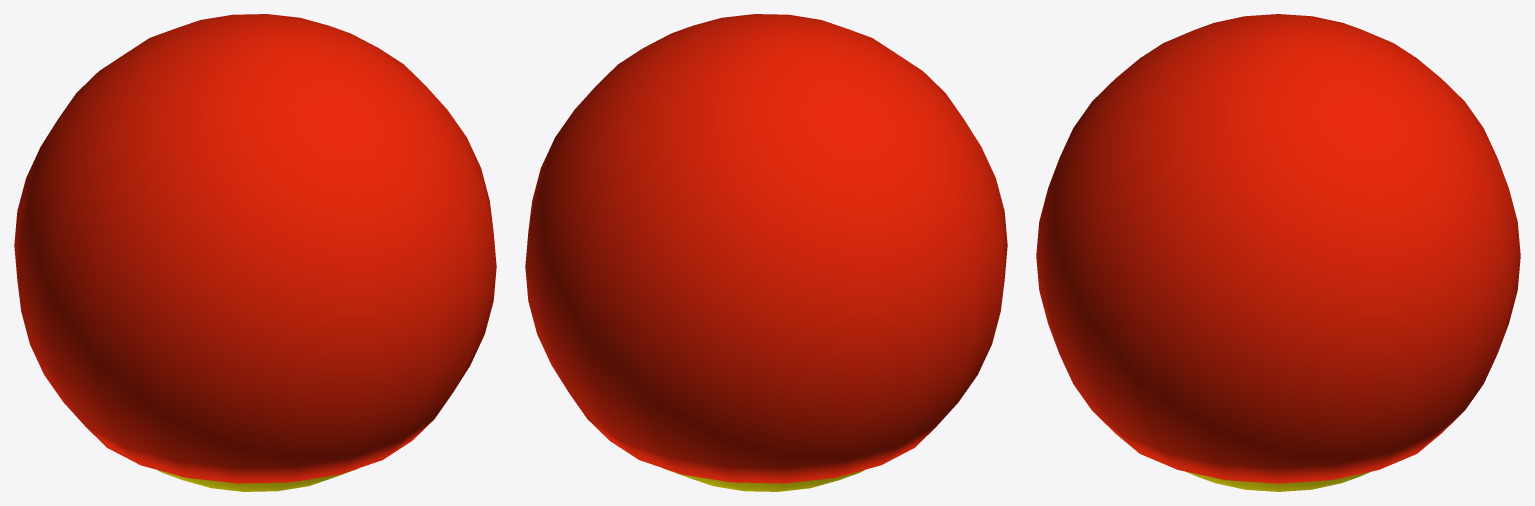
The model's file is innseki.fbx.
3 views of the same model, side by side, from view 1: azimuth 30°, elevation 25°; view 2: azimuth 150°, elevation 25°; view 3: azimuth 270°, elevation 25° (orthographic).
Visible parts, largest first — view 1: pSphere6, pSphere7; view 2: pSphere6, pSphere7; view 3: pSphere6, pSphere7.
Boxes of the visible parts, box(x1,y1,x2,y2) form: pSphere6: box(14, 14, 496, 483); pSphere7: box(157, 468, 358, 491); pSphere6: box(525, 14, 1007, 483); pSphere7: box(663, 468, 864, 491); pSphere6: box(1036, 14, 1520, 483); pSphere7: box(1186, 471, 1370, 491).
Bounding box in the file's own units: 2 × 1.97 × 2.
